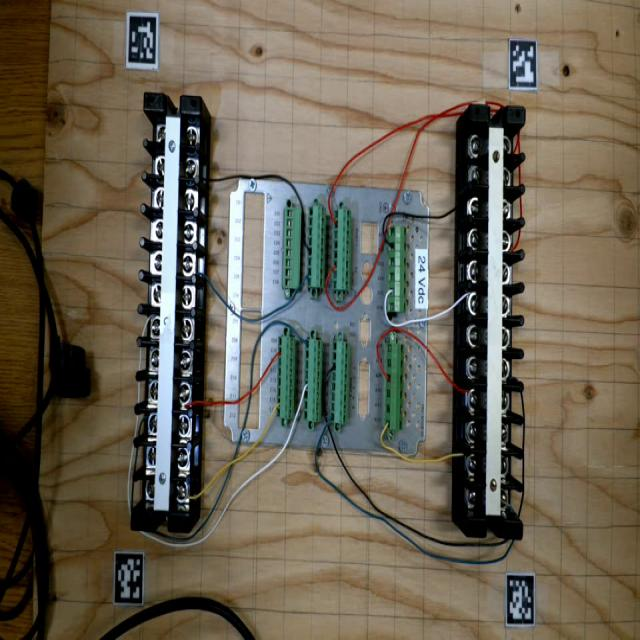Flathead_Block: (466, 104, 526, 541)
Phillips_Block: (131, 92, 202, 533)
Terminal_1: (387, 227, 407, 313), (385, 342, 404, 430)
Terminal_2: (330, 341, 350, 424), (332, 208, 352, 291), (306, 206, 326, 288), (276, 336, 295, 419), (304, 339, 322, 422)
